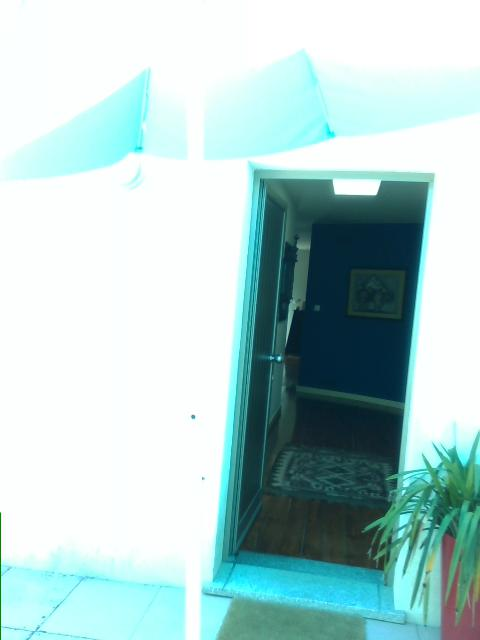door: (227, 177, 291, 555)
